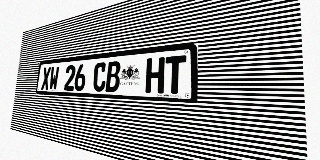2: (64, 65, 76, 91)
6: (74, 64, 87, 91)
B: (105, 61, 121, 92)
C: (92, 62, 107, 92)
H: (145, 57, 165, 93)
T: (164, 55, 186, 94)
W: (49, 66, 59, 90)
X: (41, 67, 51, 90)
